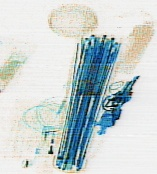lighter: (35, 124, 58, 171)
